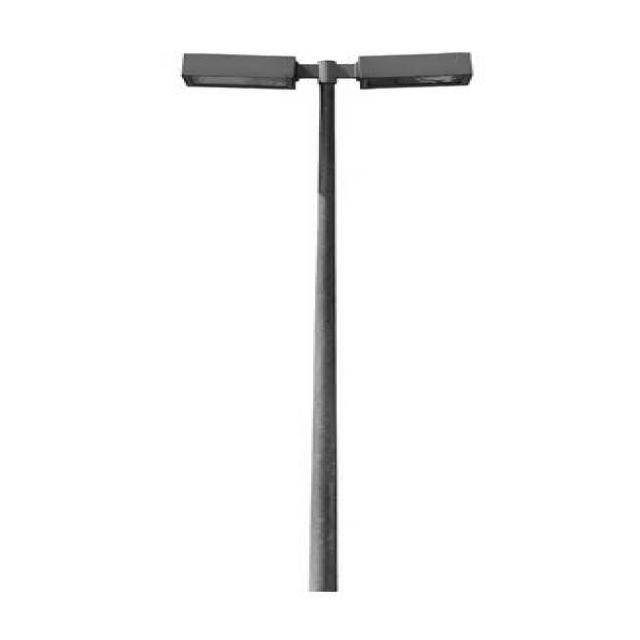Pole: (182, 52, 474, 593)
